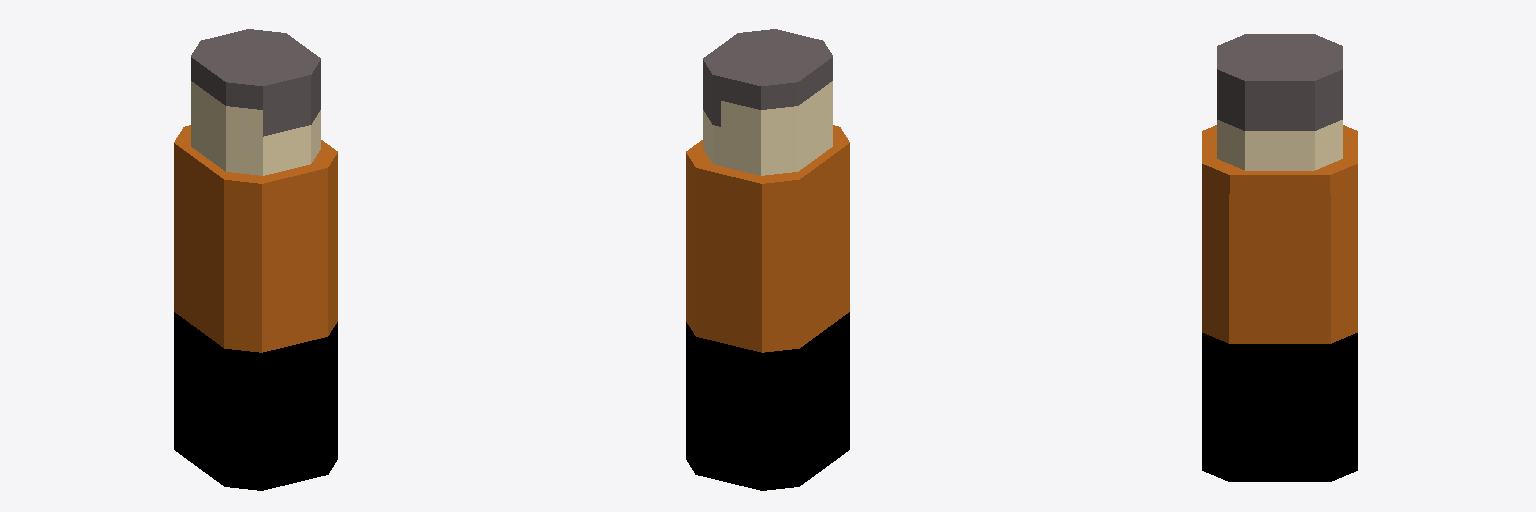
3 views of the same model, side by side, from view 1: azimuth 30°, elevation 25°; view 2: azimuth 150°, elevation 25°; view 3: azimuth 270°, elevation 25° (orthographic).
Visible parts, largest first — view 1: pCube12; view 2: pCube12; view 3: pCube12.
Part boxes in pixels (x1,y1,x2,y2): pCube12: (174,29,337,490); pCube12: (686,29,849,490); pCube12: (1202,34,1357,481).
Size of the model in its own units: 37.64 by 125 by 44.7.
Materials: 1 (1 with a texture image).